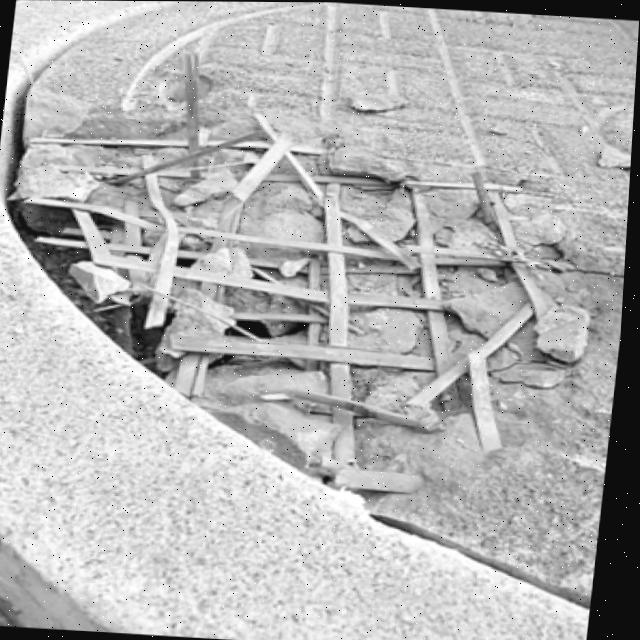manhole: (0, 0, 640, 531)
